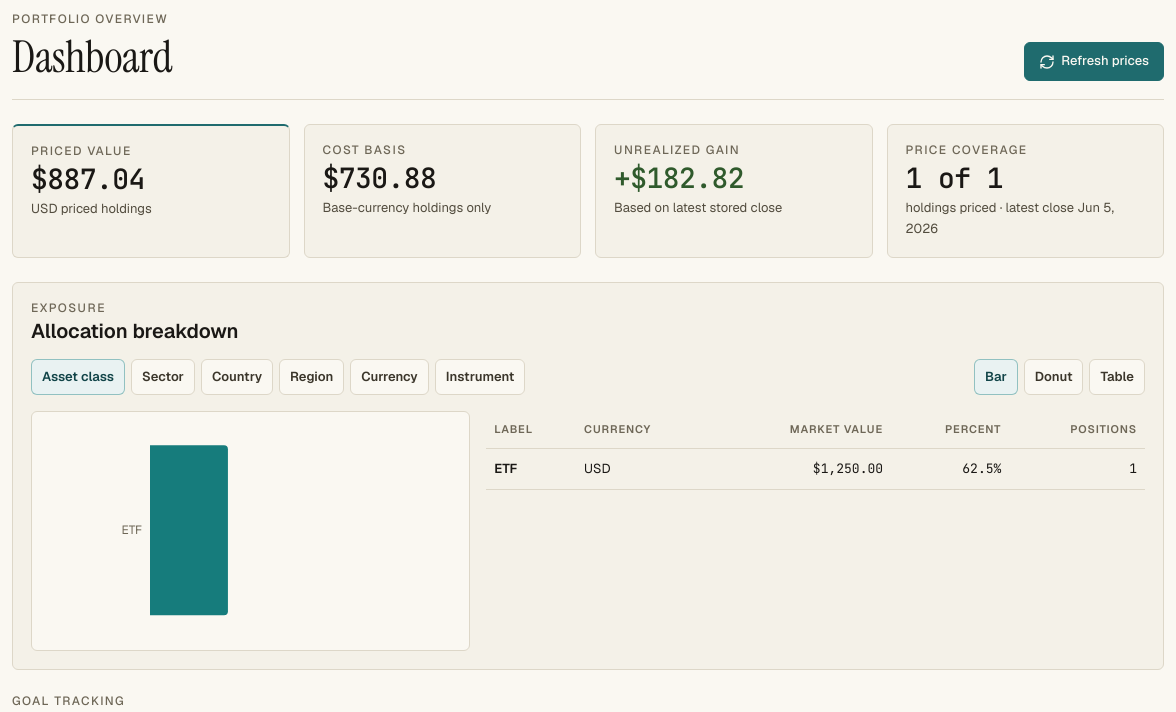
Test: DashboardPage › renders refresh failure copy
Click the button "Refresh prices": {"x": 1094, "y": 61} [1024,42,1164,80]
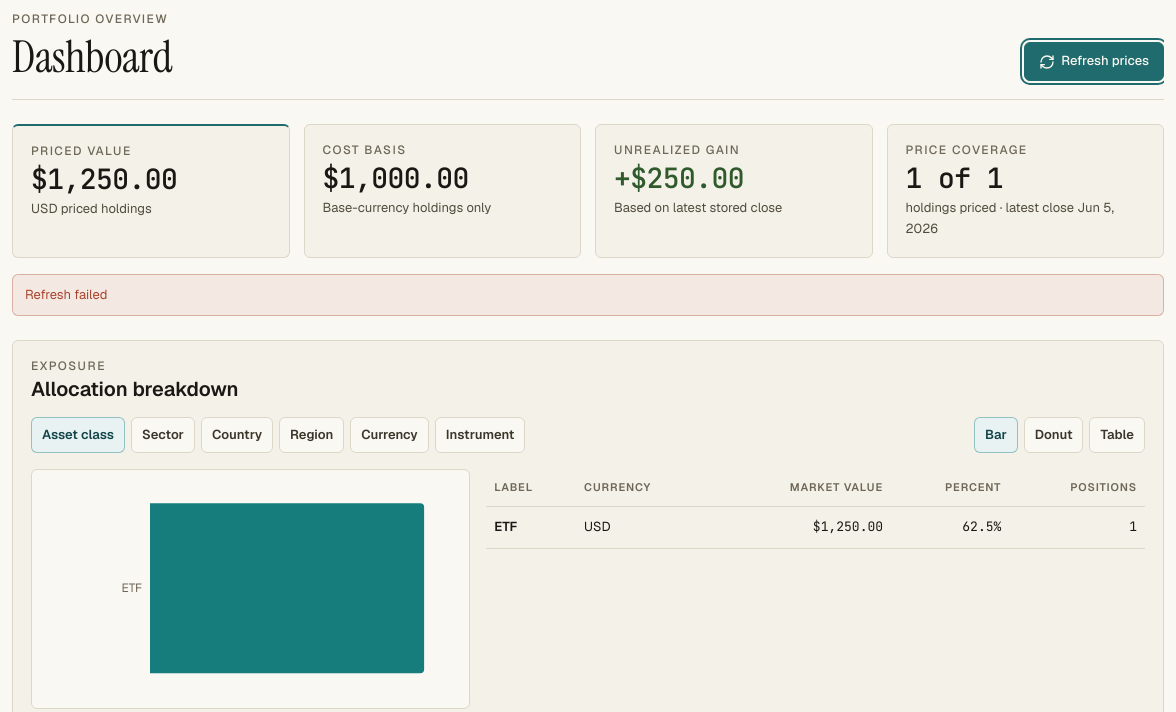
Now the text "Refresh failed" is shown, box [12,274,1164,316]
